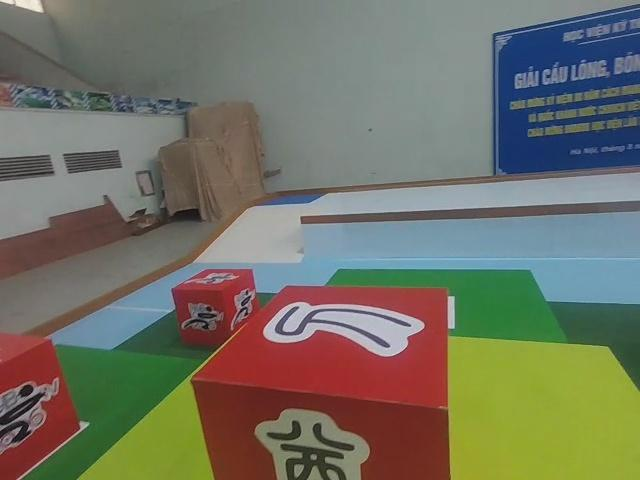R1: (0, 336, 83, 480), (168, 264, 264, 347)
R2 Fake: (189, 282, 453, 480)
